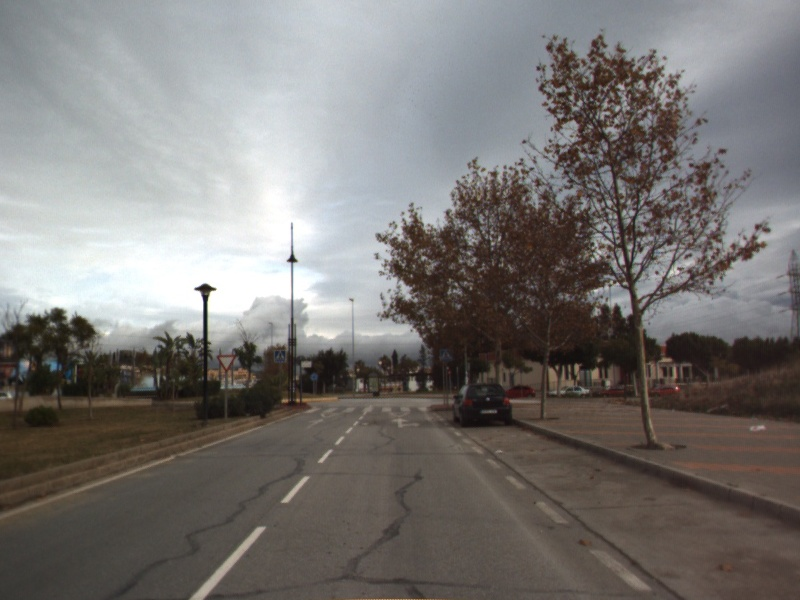STRAIGHT: (303, 417, 328, 431)
STRAIGHT_RIGHT: (390, 416, 422, 430)
